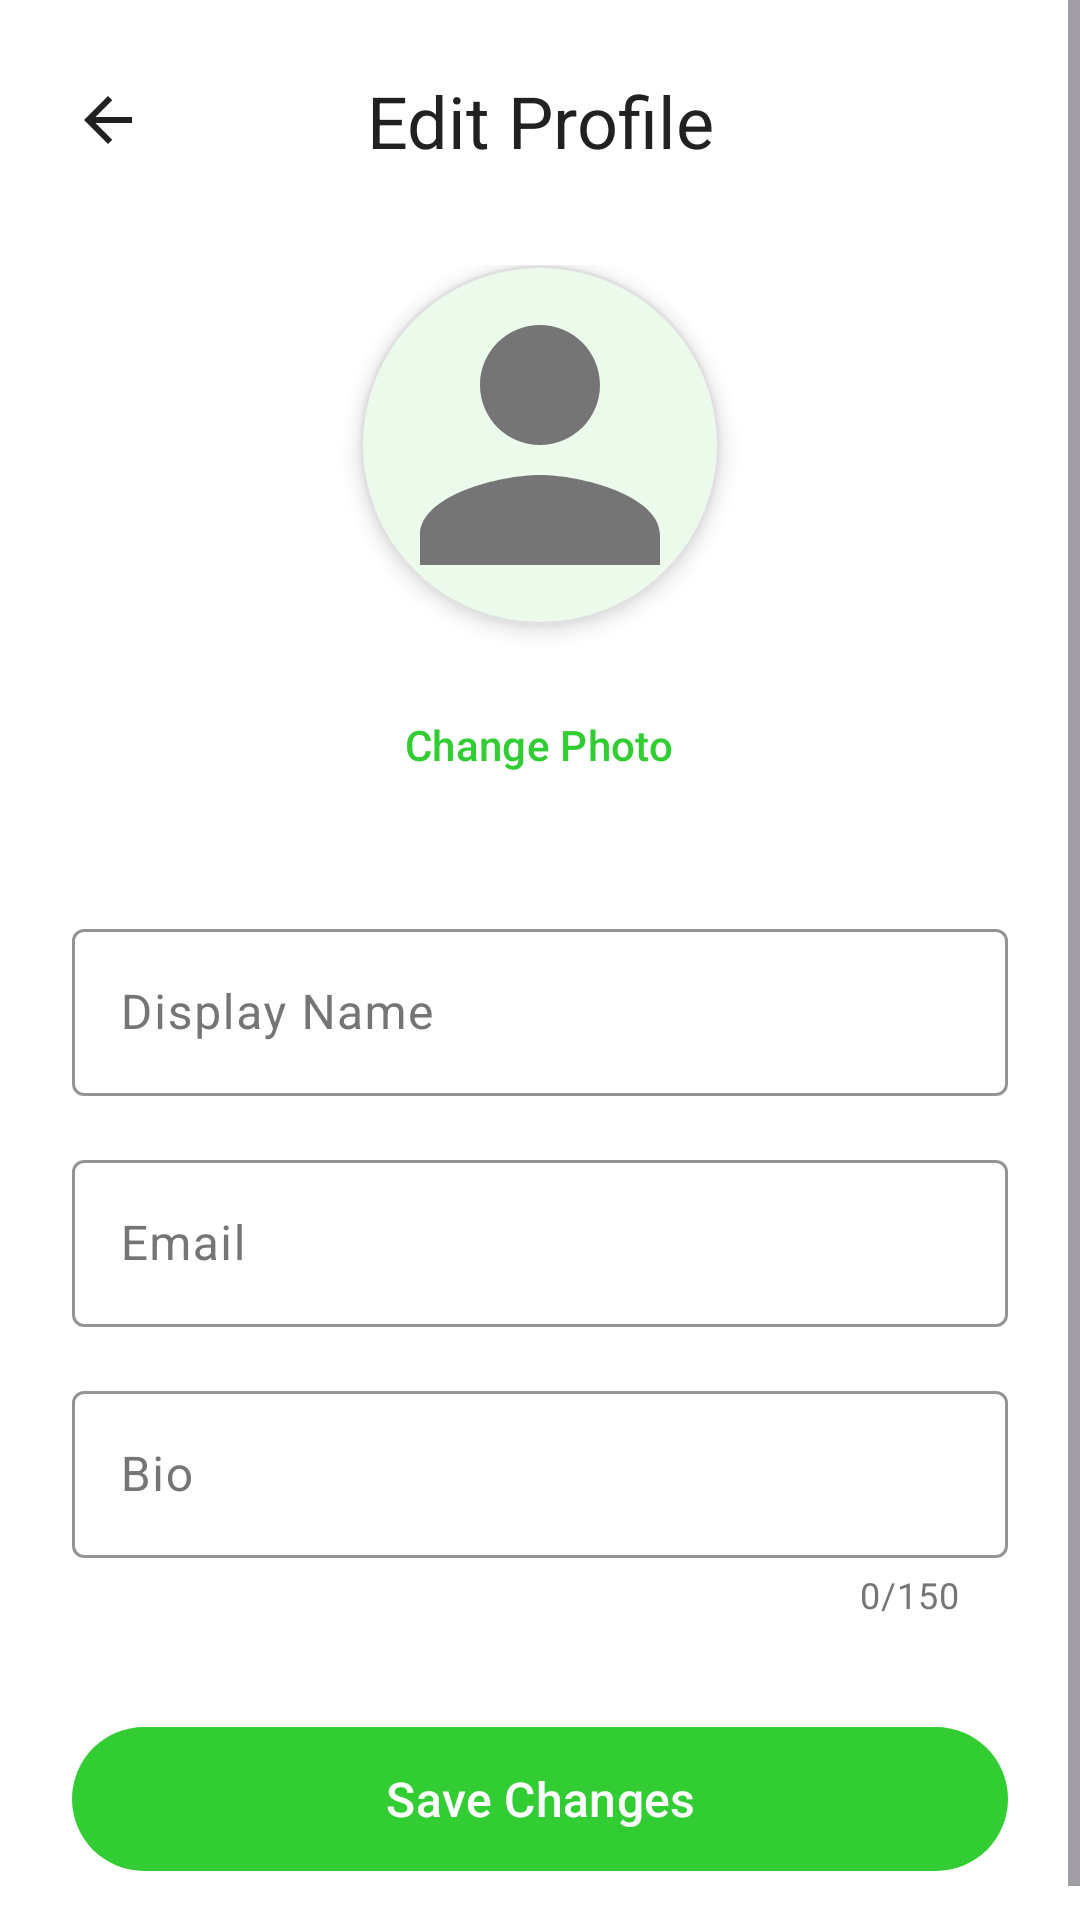

Named icons in this screenshot (1080px x 1920px) and their centers, (x,y):
Back: (108,120)
